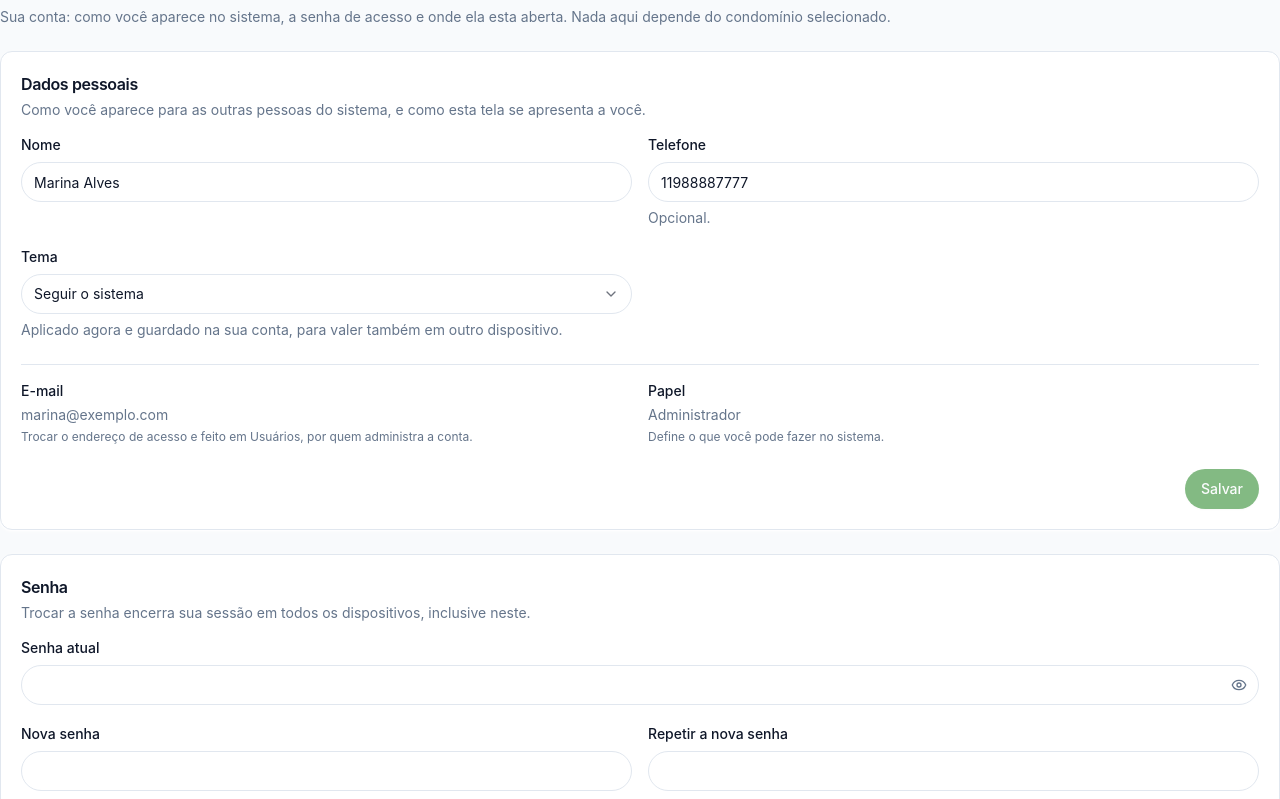
Test: Senha › pede confirmação antes de trocar, porque a troca desloga
This screenshot has width=1280, height=799.
Type "SenhaAtual1" into the password field labelled "Senha atual".
click(640, 685); type("SenhaAtual1")  # box [21,665,1259,705]
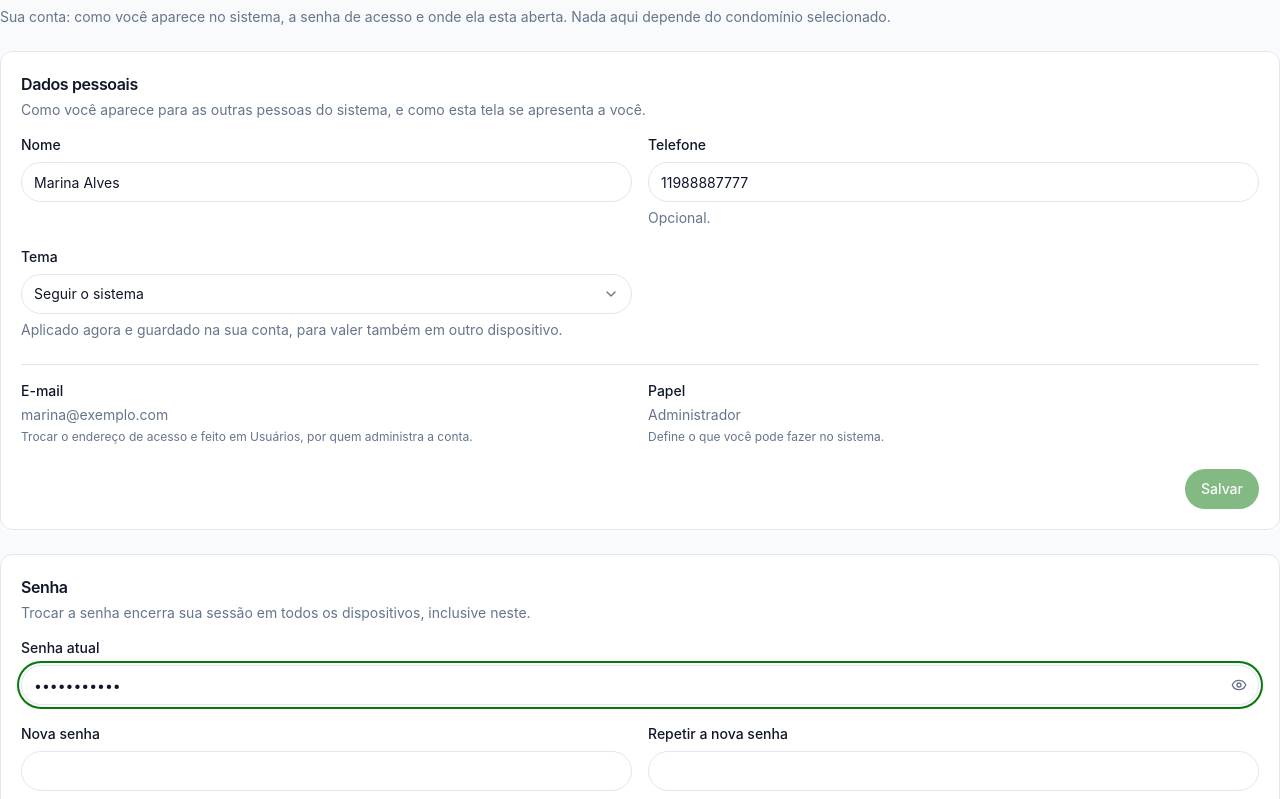
Type "SenhaNova1" into the password field labelled "Nova senha".
click(326, 771); type("SenhaNova1")  # box [21,751,632,791]
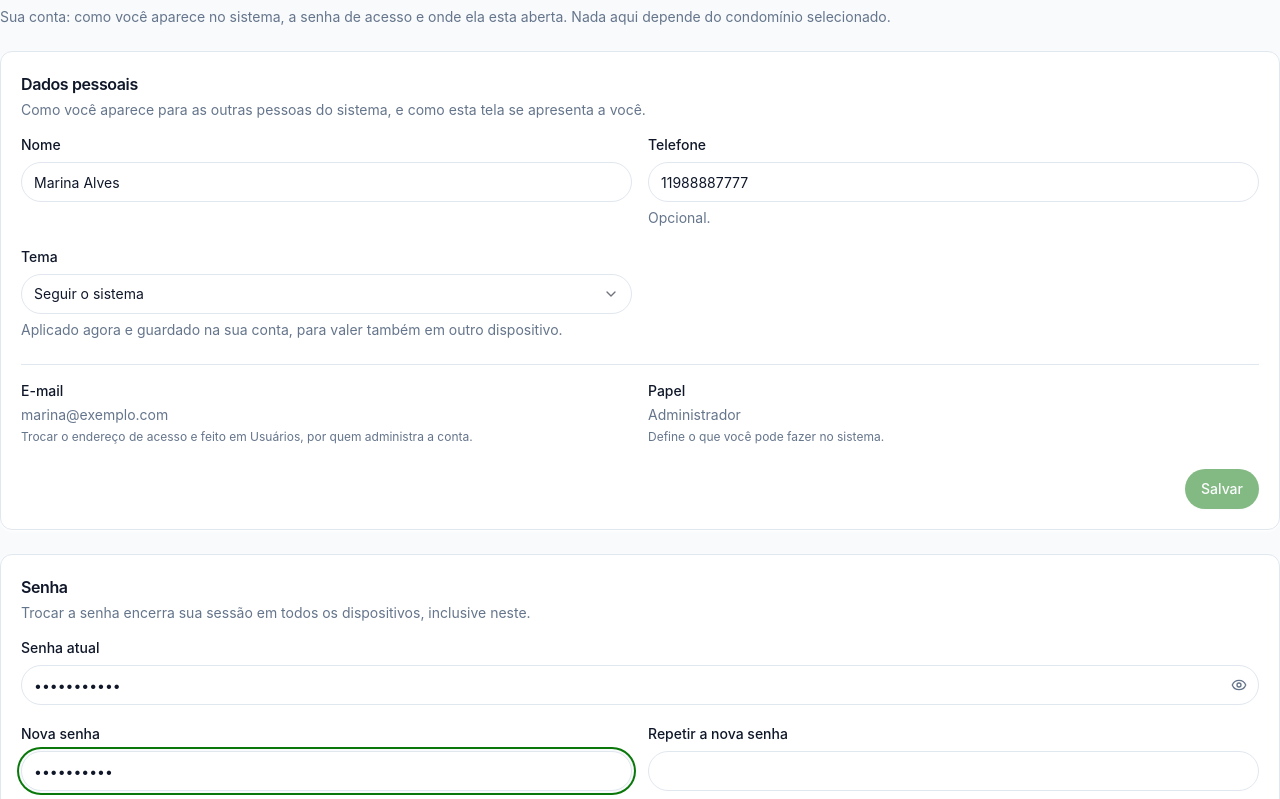
Type "SenhaNova1" into the password field labelled "Repetir a nova senha".
click(954, 771); type("SenhaNova1")  # box [648,751,1259,791]
(page scrolled)
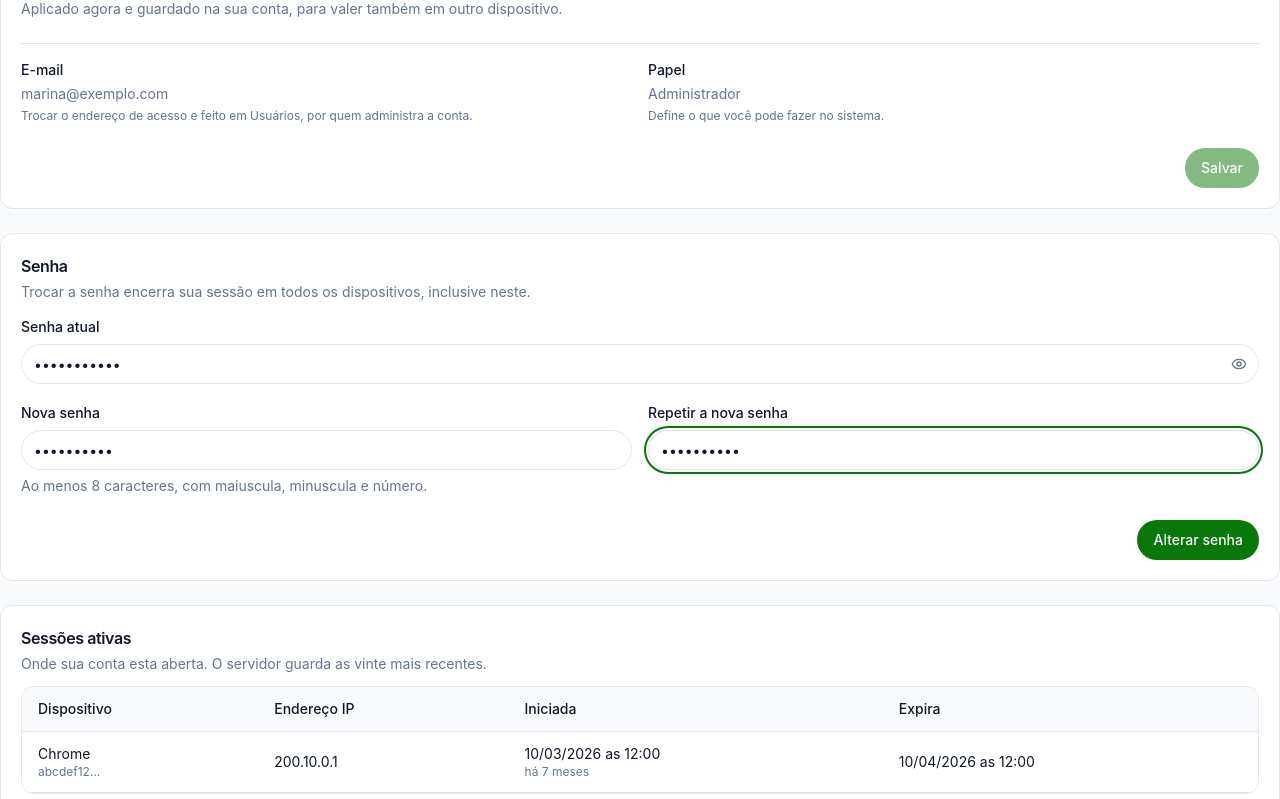
Click the button "Alterar senha".
click(1198, 540)  # box [1138,520,1259,560]
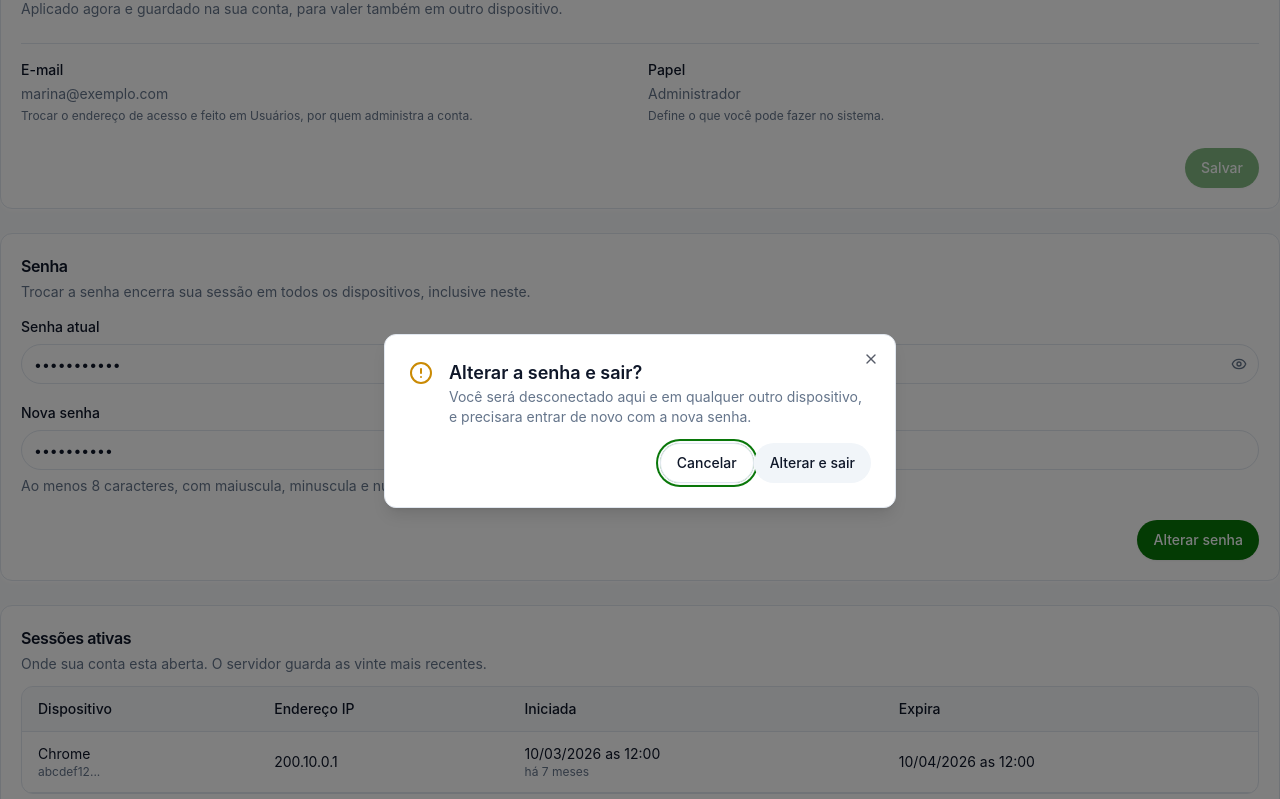
expect the heading "Alterar a senha e sair?" is shown: met, box [449,362,642,383]
